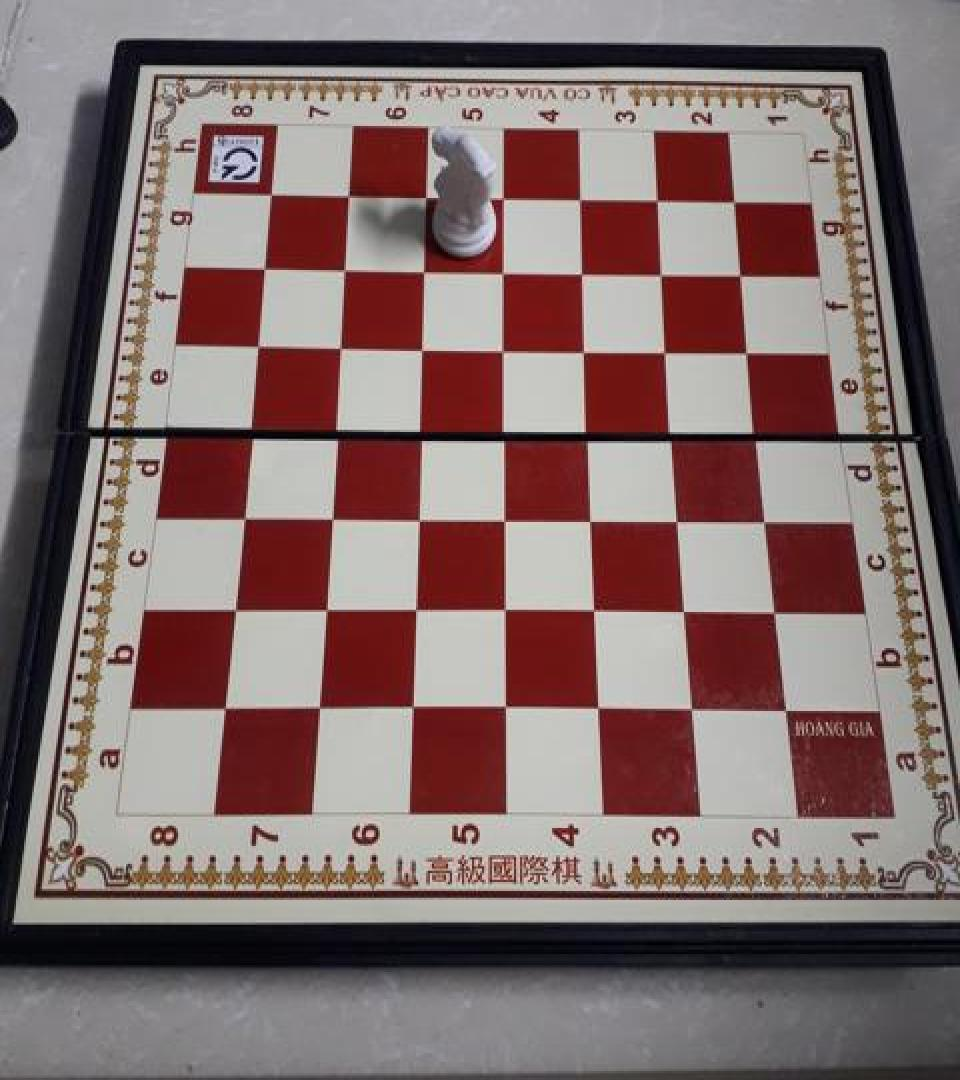xcorner: (210, 688, 242, 725), (304, 689, 336, 726), (398, 689, 430, 726), (492, 689, 524, 726), (219, 588, 251, 625), (585, 691, 617, 727), (678, 691, 710, 727), (771, 691, 803, 727), (310, 590, 342, 626), (401, 590, 433, 626), (491, 590, 523, 626), (581, 590, 613, 626), (671, 590, 703, 626), (760, 592, 792, 628), (227, 495, 259, 531), (315, 495, 347, 531), (403, 496, 435, 532), (490, 497, 522, 533), (577, 497, 609, 533), (664, 498, 696, 534), (751, 498, 783, 534), (235, 407, 267, 443), (320, 408, 352, 444), (405, 410, 437, 446), (490, 410, 522, 446), (574, 410, 606, 446), (658, 412, 690, 448), (742, 412, 774, 448), (243, 325, 275, 361), (325, 326, 357, 362), (407, 328, 439, 364), (652, 330, 684, 366), (733, 331, 765, 367), (250, 248, 282, 284), (330, 250, 362, 286), (409, 250, 441, 286), (489, 251, 521, 287), (568, 252, 600, 288), (647, 253, 679, 289), (726, 254, 758, 290), (256, 176, 288, 212), (334, 176, 366, 212), (411, 178, 443, 214), (488, 179, 520, 215), (565, 180, 597, 216), (642, 181, 674, 217), (718, 182, 750, 218), (489, 329, 521, 364), (571, 329, 603, 364)
